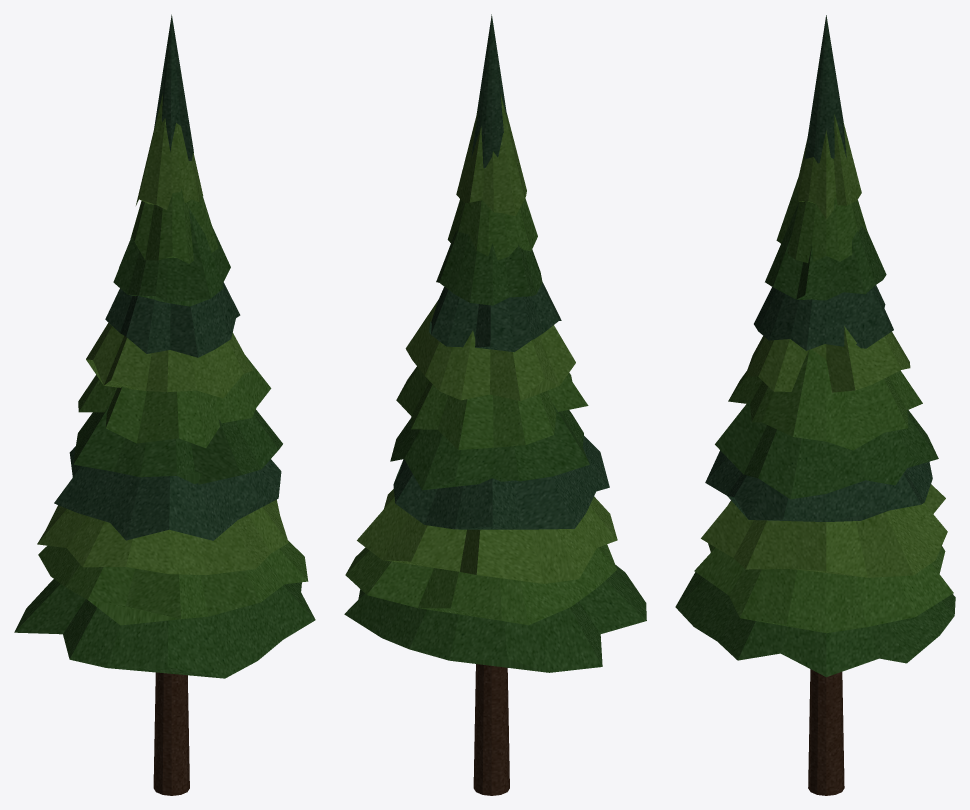
The model's file is Tree_Spruce_17m_LOD0.glb.
3 renders of one model, left to right at view 1: azimuth 30°, elevation 25°; view 2: azimuth 150°, elevation 25°; view 3: azimuth 270°, elevation 25°, orthographic.
Parts seen in each view (by area): view 1: Tree_Spruce_17m_export; view 2: Tree_Spruce_17m_export; view 3: Tree_Spruce_17m_export.
Part boxes in pixels (x1,y1,x2,y2): Tree_Spruce_17m_export: (14,14,315,795); Tree_Spruce_17m_export: (344,14,646,795); Tree_Spruce_17m_export: (675,15,955,795).
Bounding box in the file's own units: 6.04 × 16.9 × 5.55.
Materials: 5 (5 with a texture image).
